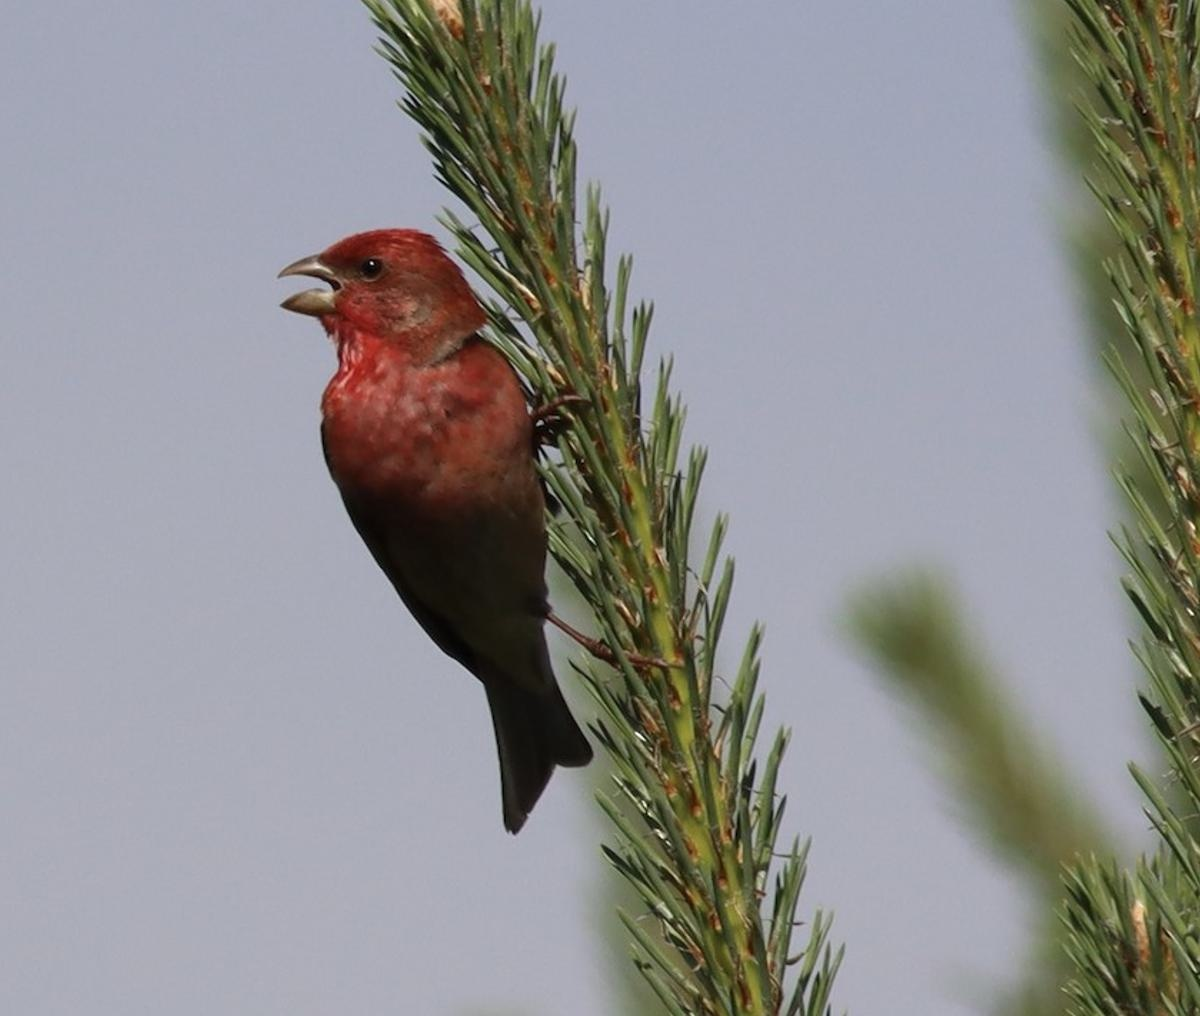rosefinch: (267, 230, 615, 815)
